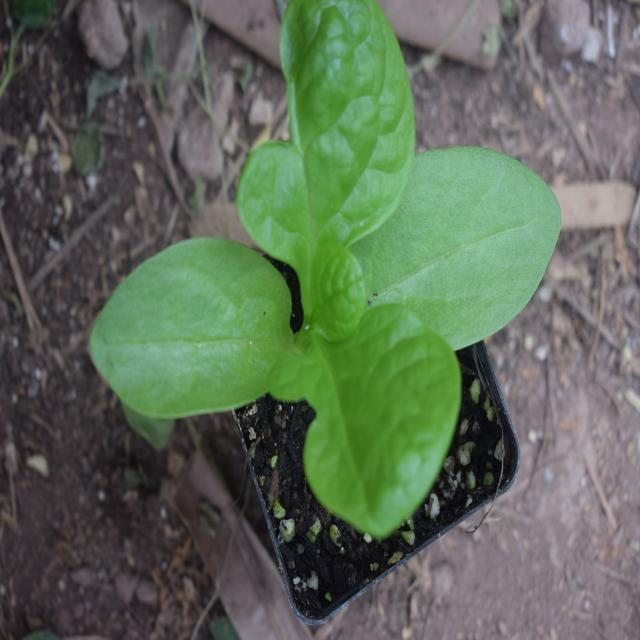Ceylon spinach: (139, 2, 495, 522)
